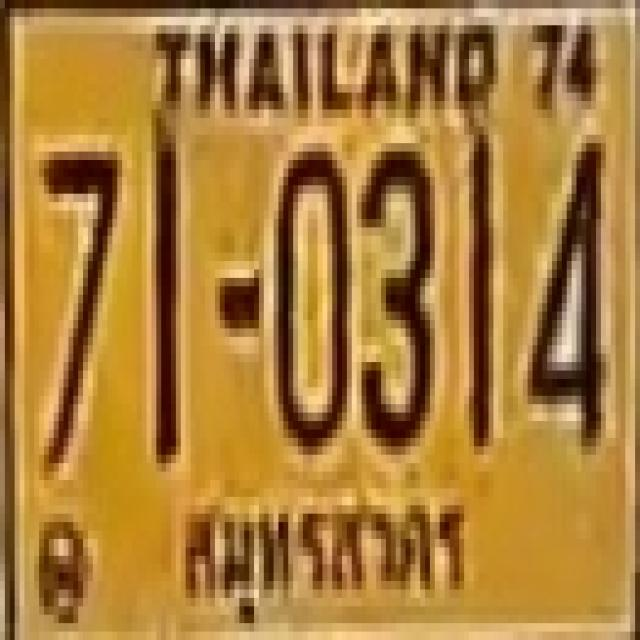0: (273, 143, 347, 446)
1: (149, 130, 178, 459), (464, 131, 489, 442)
3: (357, 143, 430, 438)
4: (523, 135, 601, 438)
7: (39, 143, 117, 463), (39, 143, 117, 362)
SKN: (176, 482, 474, 631)
